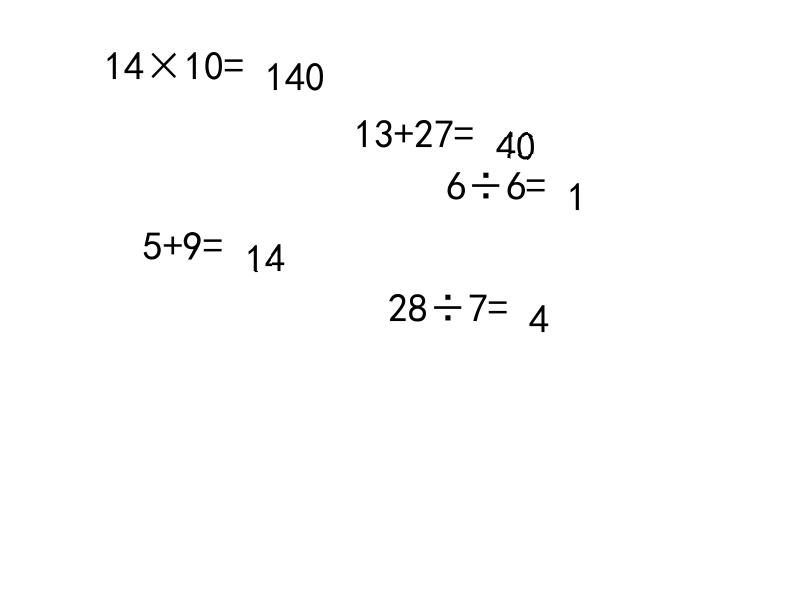+: (394, 113, 414, 142), (163, 225, 183, 253)
0: (204, 45, 224, 74), (294, 45, 314, 74), (504, 113, 524, 142)
1: (104, 45, 124, 74), (184, 45, 204, 74), (254, 45, 274, 74), (354, 113, 374, 142), (556, 165, 576, 193), (233, 225, 253, 253)
2: (414, 113, 434, 142), (388, 287, 408, 316)
3: (374, 113, 394, 142)
4: (124, 45, 144, 74), (274, 45, 294, 74), (484, 113, 504, 142), (518, 287, 538, 316), (253, 225, 273, 253)
5: (143, 225, 163, 253)
6: (446, 165, 466, 193), (506, 165, 526, 193)
7: (434, 113, 454, 142), (468, 287, 488, 316)
8: (408, 287, 428, 316)
9: (183, 225, 203, 253)
=: (224, 45, 244, 74), (454, 113, 474, 142), (488, 287, 508, 316), (526, 165, 546, 193), (203, 225, 223, 253)
×: (144, 45, 184, 74)
÷: (428, 287, 468, 316), (466, 165, 506, 193)
